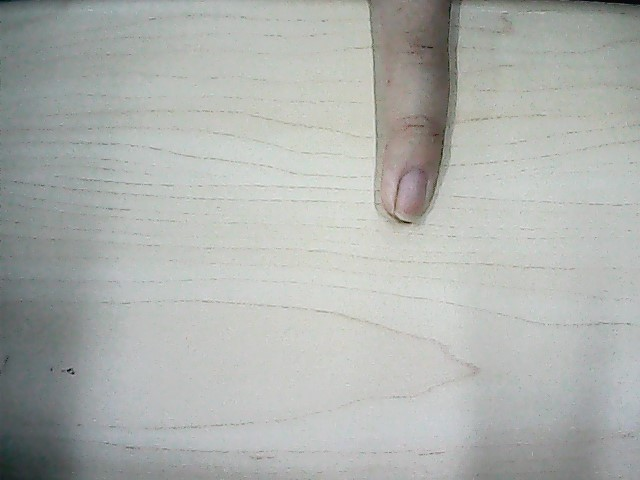nail: (392, 168, 429, 222)
